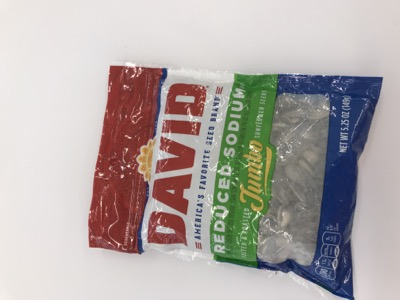sunflower seed: (87, 61, 383, 300)
